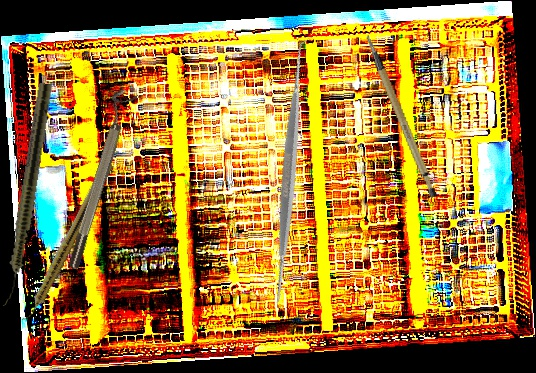Fixation Ring: (57, 86, 139, 272)
Handpiece: (19, 158, 115, 327), (0, 81, 54, 309)
Scalpel Handle: (365, 27, 440, 204)
Spatula Surgical: (150, 34, 429, 312)
